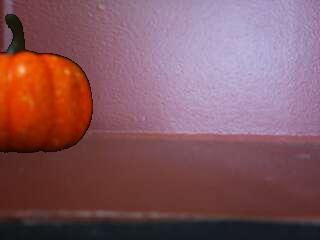Pumpkin: (0, 13, 92, 153)
